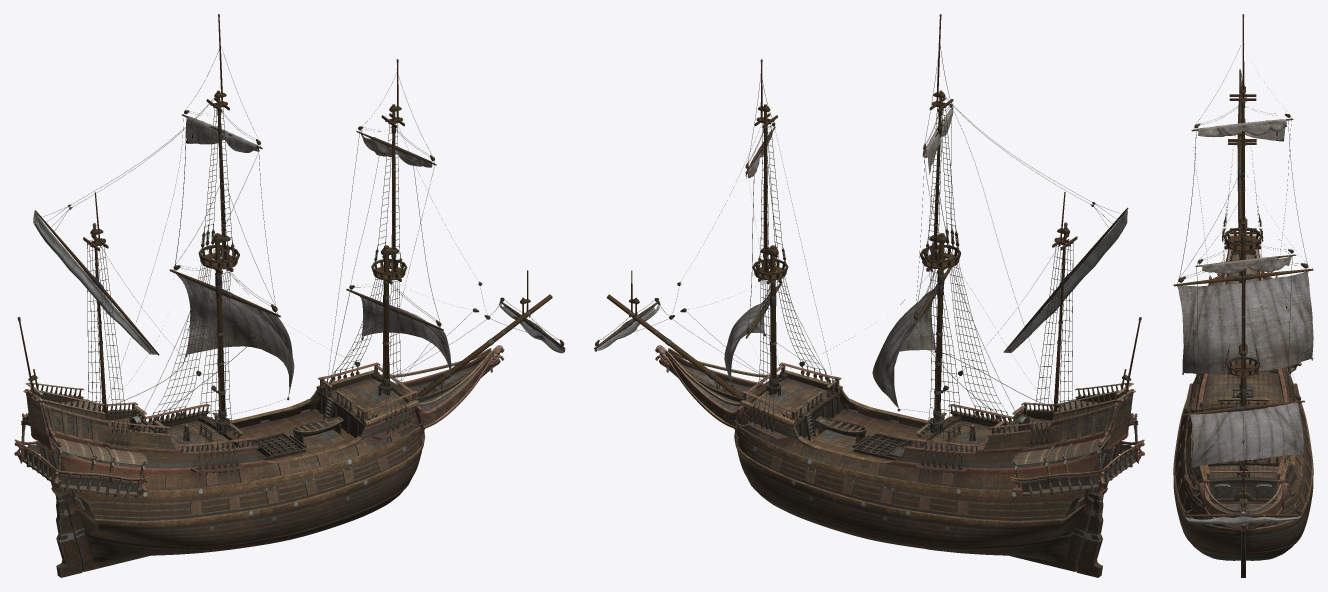
File: dutch_ship_large_01.glb
The picture shows the model from 3 angles, left to right: view 1: azimuth 30°, elevation 25°; view 2: azimuth 150°, elevation 25°; view 3: azimuth 270°, elevation 25°; orthographic projection. The views are drawn at different scales.
Visible parts, largest first — view 1: dutch_ship_large_01_hull, dutch_ship_large_01_rigging, dutch_ship_large_01_sails; view 2: dutch_ship_large_01_hull, dutch_ship_large_01_rigging, dutch_ship_large_01_sails; view 3: dutch_ship_large_01_sails, dutch_ship_large_01_hull, dutch_ship_large_01_rigging.
Boxes of the visible parts, x1,y1,x2,y2 form: dutch_ship_large_01_hull: (14, 345, 504, 577); dutch_ship_large_01_rigging: (17, 14, 565, 482); dutch_ship_large_01_sails: (176, 116, 451, 396); dutch_ship_large_01_hull: (655, 345, 1144, 577); dutch_ship_large_01_rigging: (594, 14, 1141, 479); dutch_ship_large_01_sails: (724, 109, 953, 408); dutch_ship_large_01_sails: (1178, 119, 1313, 467); dutch_ship_large_01_hull: (1173, 235, 1313, 577); dutch_ship_large_01_rigging: (1173, 14, 1313, 524).
Size of the model in its own units: 34.25 by 32.08 by 8.39.
Materials: 3 (3 with a texture image).
